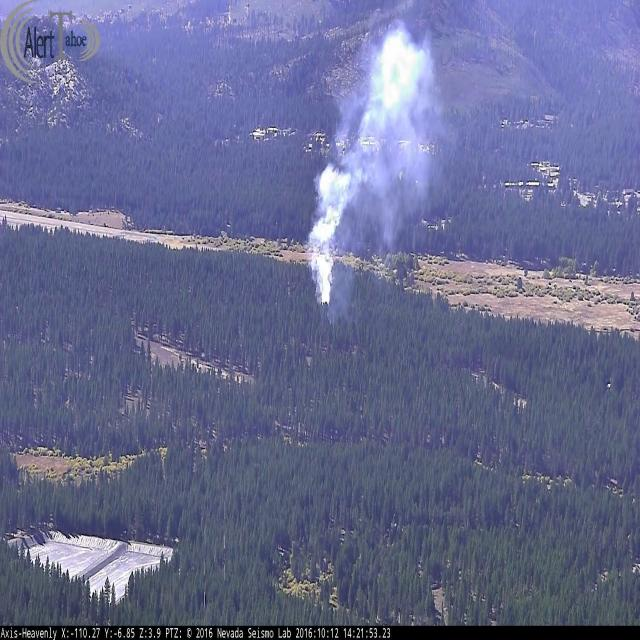smoke: (305, 17, 449, 320)
